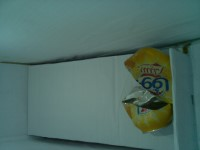kaleng: (122, 47, 173, 133)
